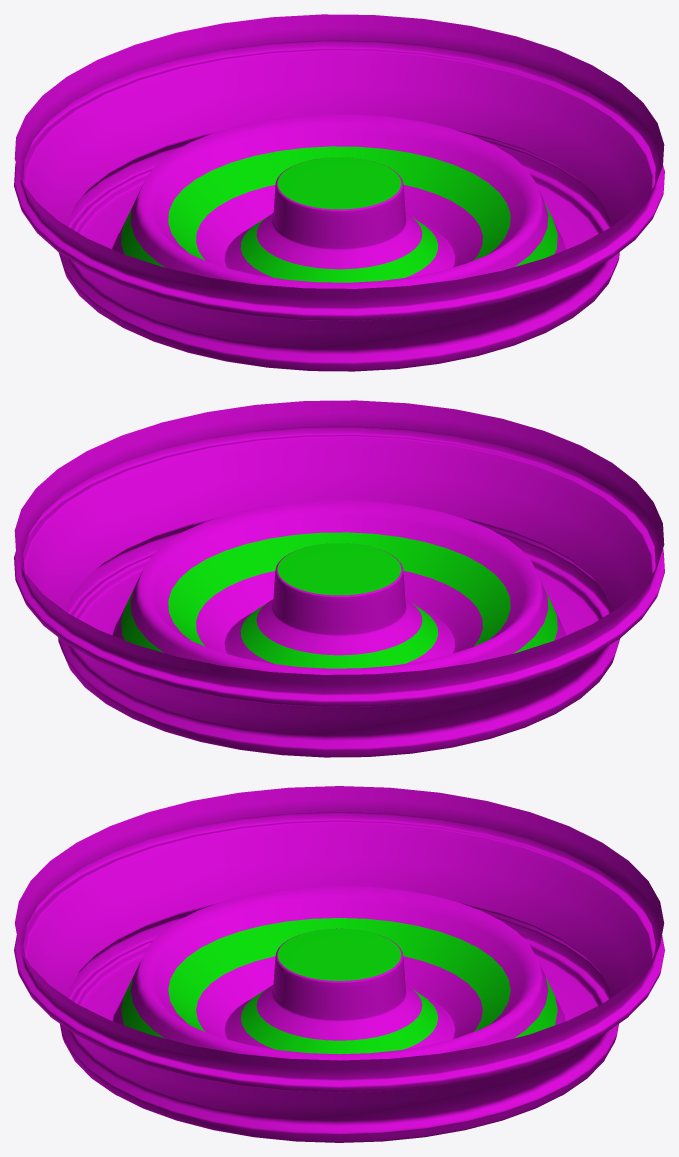
File: Matrix_Device.fbx
The picture shows the model from 3 angles, top to bottom: view 1: azimuth 30°, elevation 25°; view 2: azimuth 150°, elevation 25°; view 3: azimuth 270°, elevation 25°; orthographic projection.
Visible parts, largest first — view 1: Matrix_Device; view 2: Matrix_Device; view 3: Matrix_Device.
Part boxes in pixels (box(x1,y1,x2,y2)): Matrix_Device: box(14, 14, 664, 371); Matrix_Device: box(14, 400, 664, 757); Matrix_Device: box(14, 786, 664, 1142).
Size of the model in its own units: 1136 by 207 by 1136.
